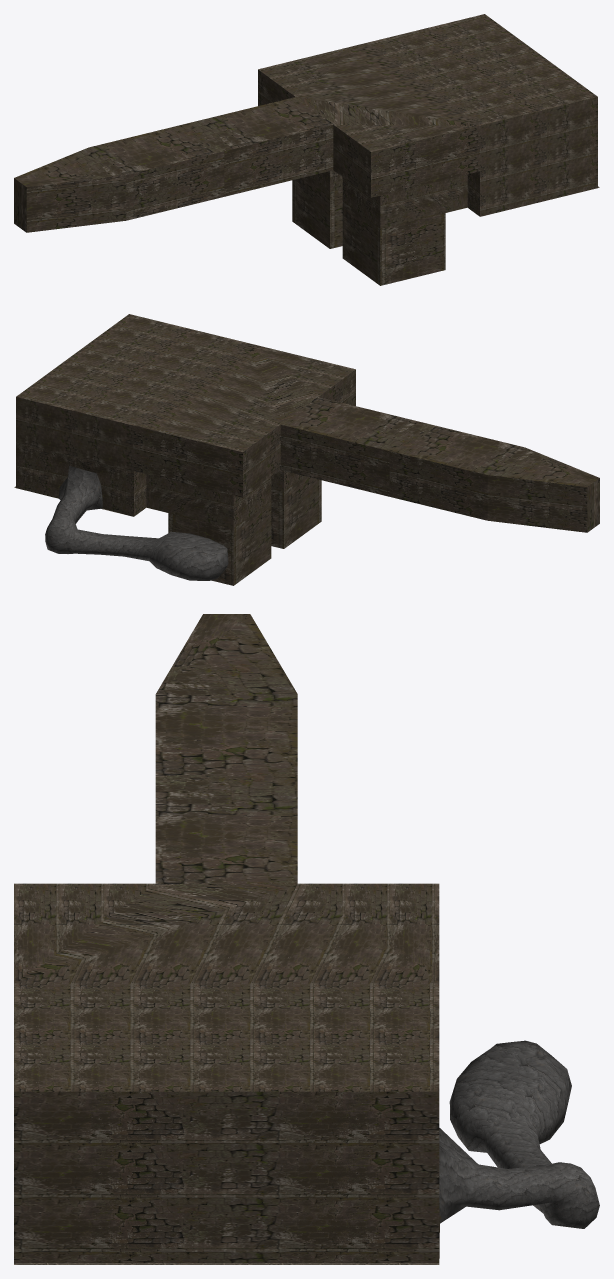
Rendered from empty.obj.
3 views of the same model, one above another, from view 1: azimuth 30°, elevation 25°; view 2: azimuth 150°, elevation 25°; view 3: azimuth 270°, elevation 25° (orthographic). The views are drawn at different scales.
Parts seen in each view (by area): view 1: Plane.002; view 2: Plane.002; view 3: Plane.002.
Boxes of the visible parts, x1,y1,x2,y2 form: Plane.002: (14,14,599,285); Plane.002: (14,314,599,585); Plane.002: (14,614,599,1264).
Size of the model in its own units: 96 by 26 by 49.59.
